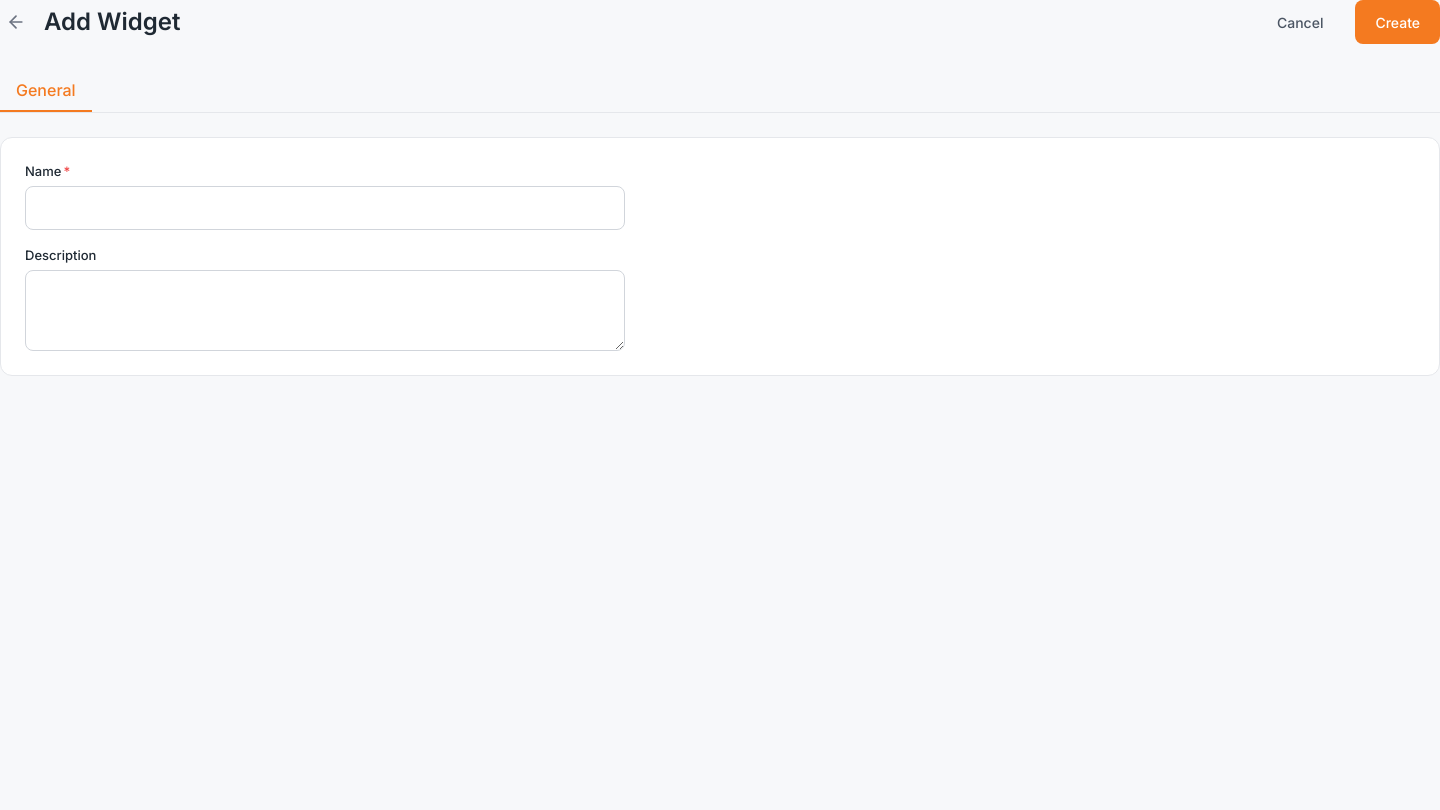
EntityEditPage › unsaved changes guard › keeps editing when Keep Editing is clicked in unsaved dialog
The image size is (1440, 810).
Type "dirty" into the field with test id "widget-field-name" at (325, 208), box [25,186,625,230]
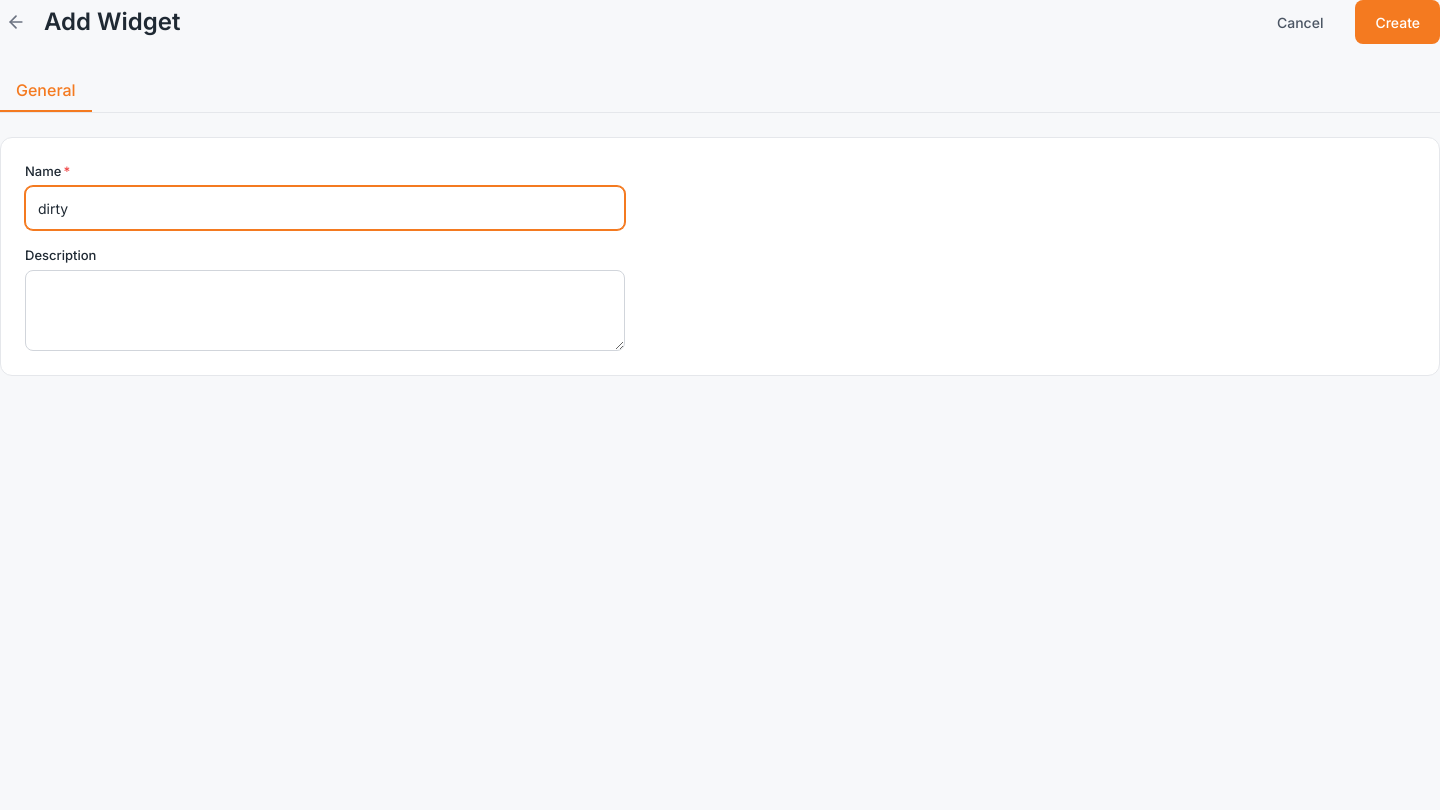
Click the button with test id "widget-cancel" at (1300, 22), box [1257,0,1343,44]
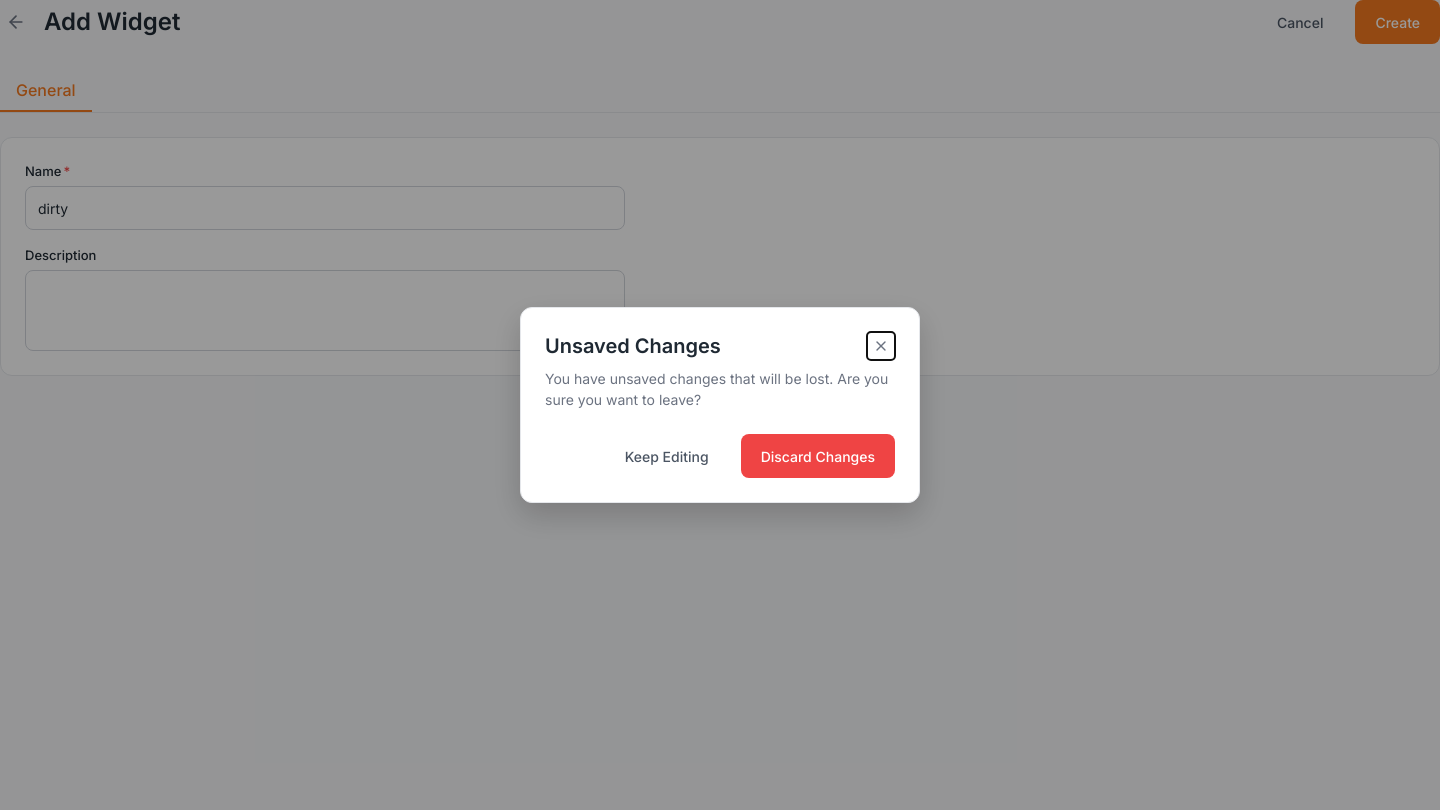
Check: the button "Keep Editing" is shown
Click the button "Keep Editing" at (667, 456), box [605,434,729,478]
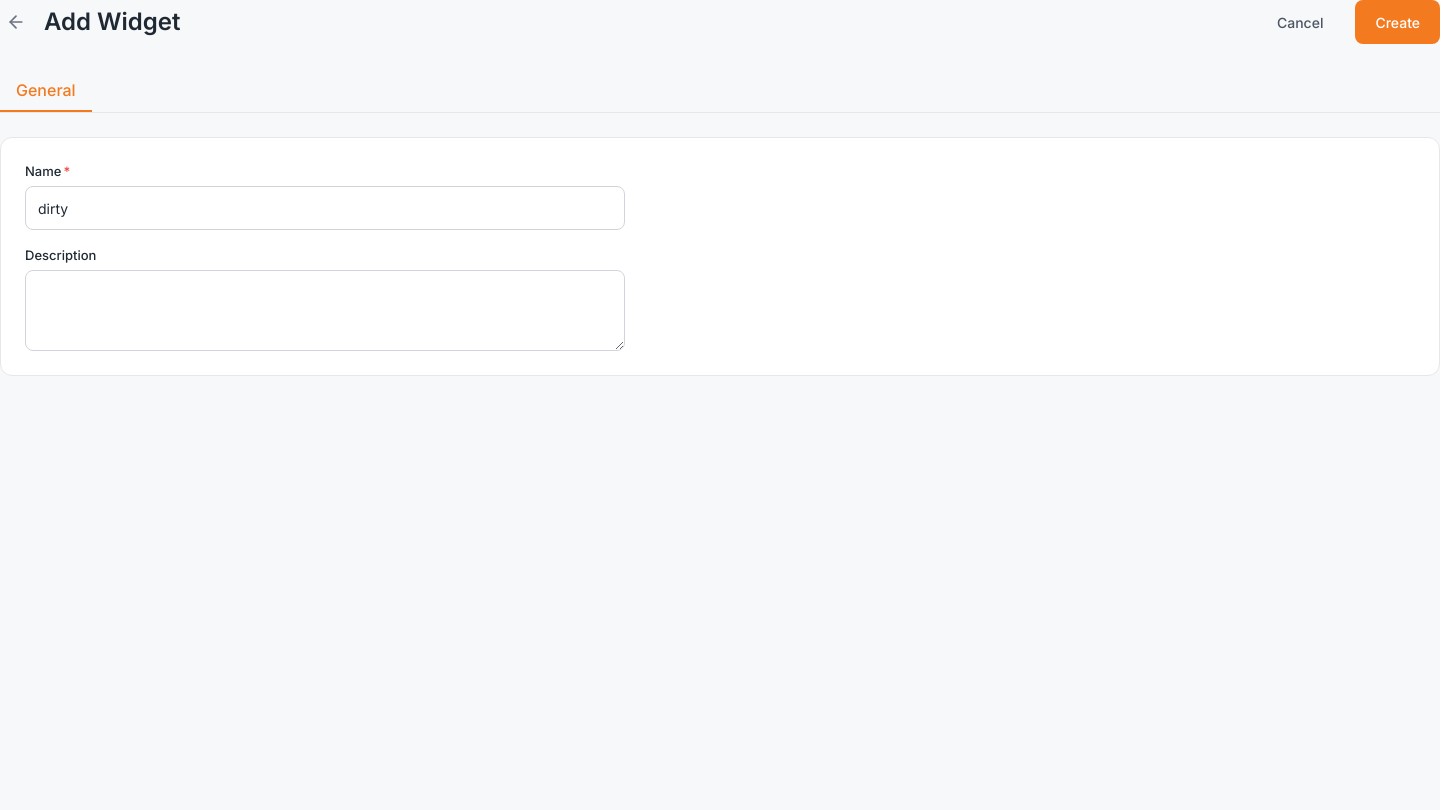
Check: the heading "Unsaved Changes" is gone
